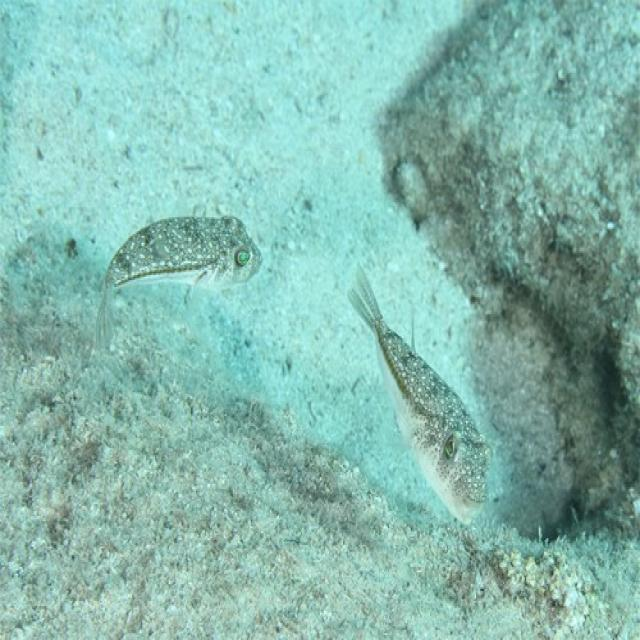Balik: (350, 269, 491, 522), (96, 216, 261, 346)
